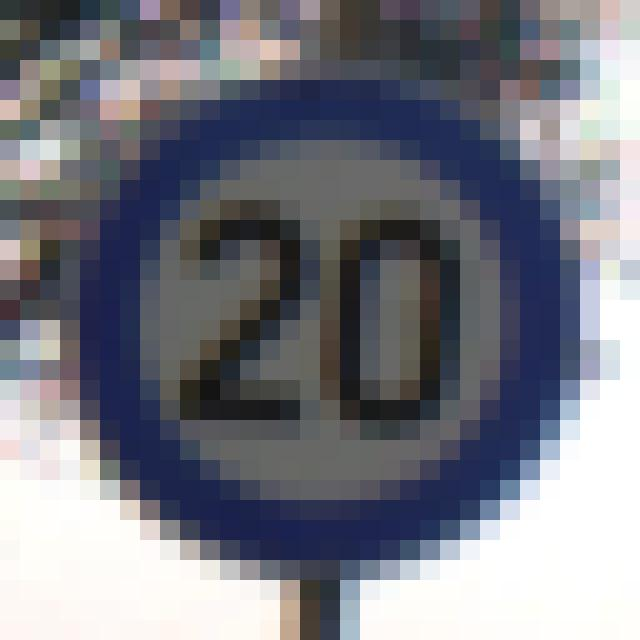SPEED LIMIT 20: (89, 100, 544, 530)
